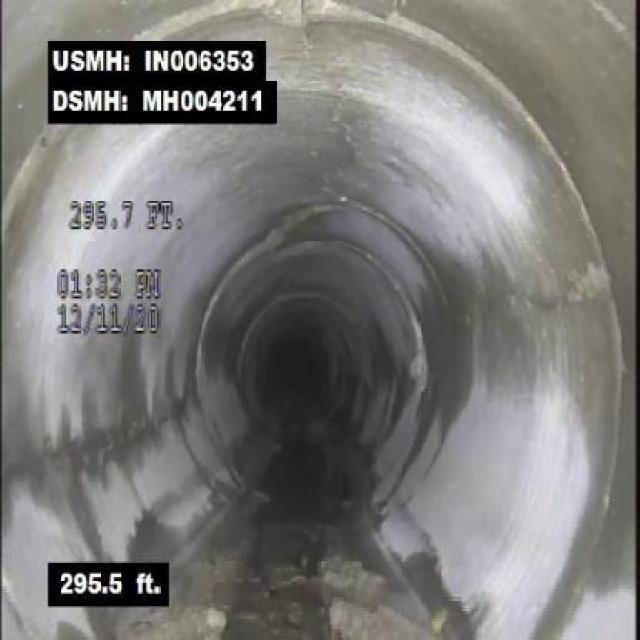Crack: (16, 417, 132, 492), (474, 276, 600, 344)
Debris: (190, 512, 476, 638)
